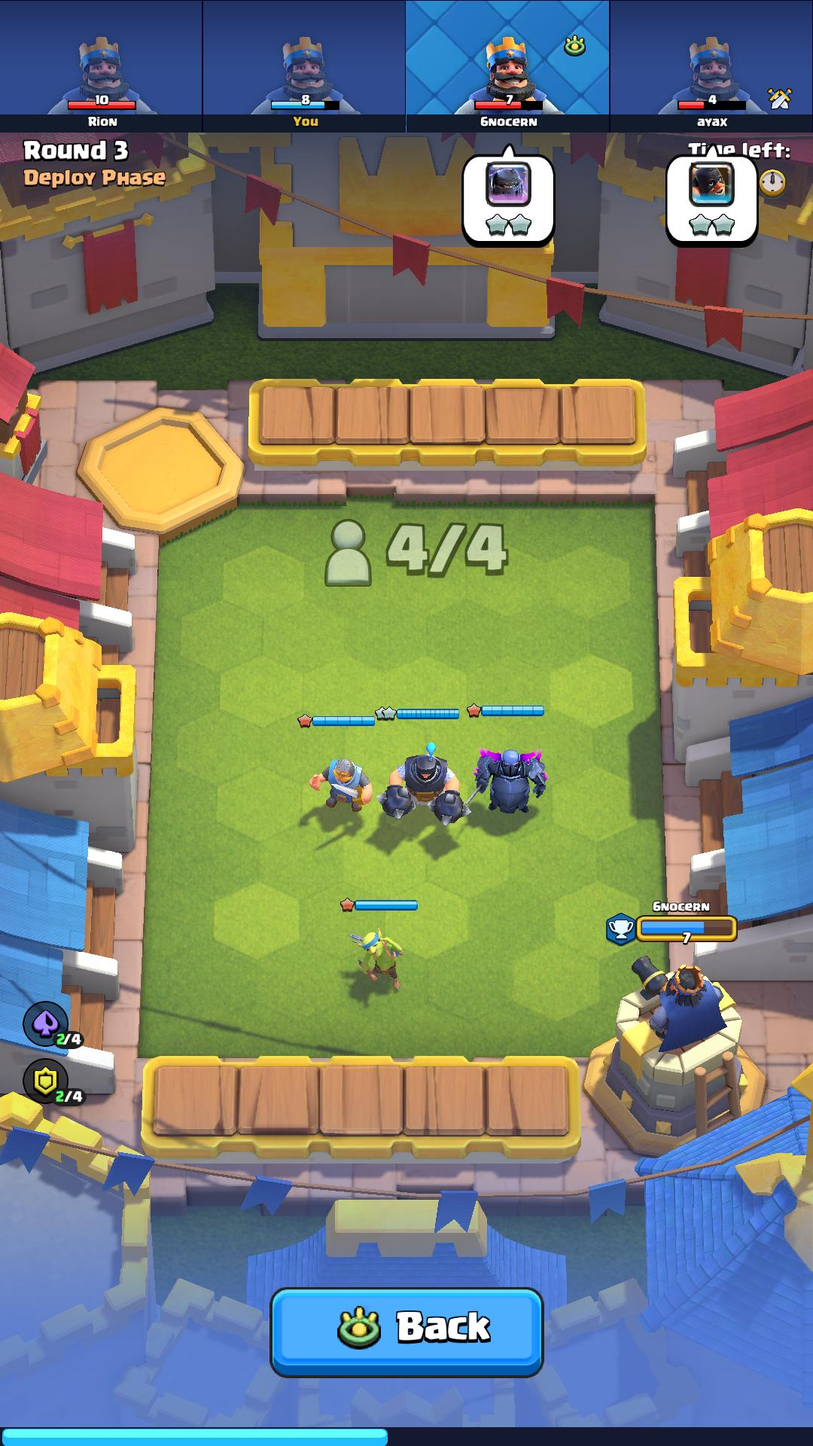knight: (300, 748, 374, 813)
mega: (377, 739, 474, 834)
pekka: (465, 736, 554, 821)
spear: (345, 922, 415, 993)
